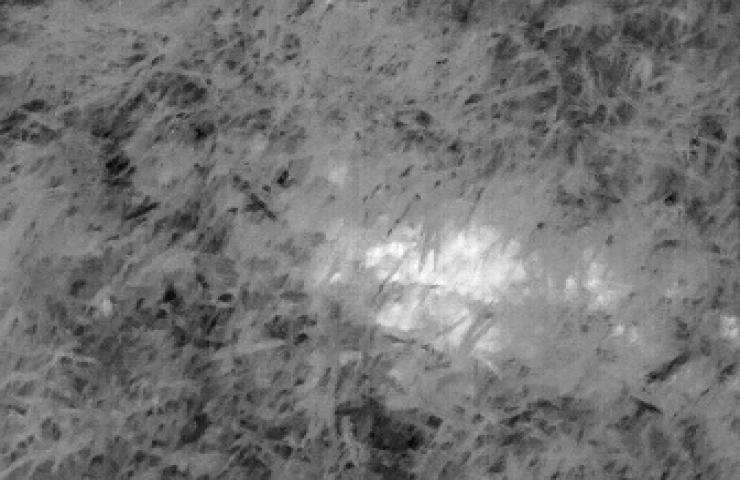landmines: (363, 213, 539, 358)
